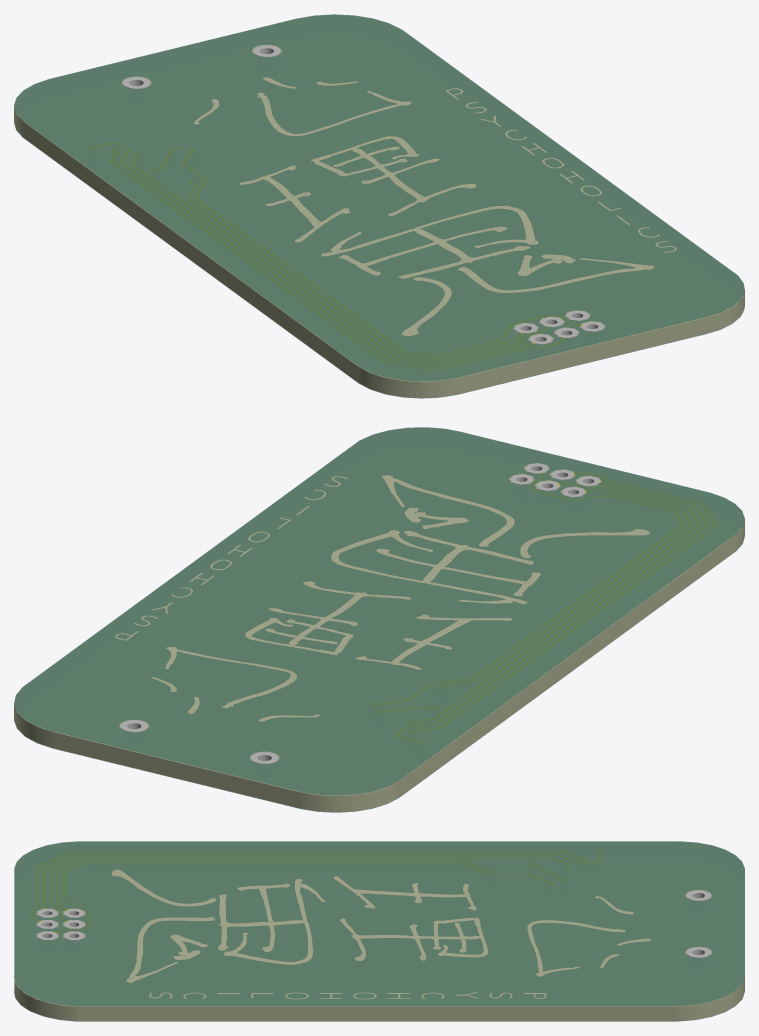
Rendered from psychoholics-pin.glb.
3 renders of one model, top to bottom at view 1: azimuth 30°, elevation 25°; view 2: azimuth 150°, elevation 25°; view 3: azimuth 270°, elevation 25°, orthographic. The views are drawn at different scales.
Visible parts, largest first — view 1: =>[0:1:1:8], =>[0:1:1:6], =>[0:1:1:2]; view 2: =>[0:1:1:8], =>[0:1:1:6], =>[0:1:1:2]; view 3: =>[0:1:1:8], =>[0:1:1:6], =>[0:1:1:2].
Part boxes in pixels (x1,y1,x2,y2): =>[0:1:1:8]: (14, 15, 744, 397); =>[0:1:1:6]: (14, 14, 744, 398); =>[0:1:1:2]: (87, 45, 604, 370); =>[0:1:1:8]: (14, 428, 744, 812); =>[0:1:1:6]: (14, 427, 744, 812); =>[0:1:1:2]: (120, 463, 717, 764); =>[0:1:1:8]: (14, 842, 744, 1021); =>[0:1:1:6]: (14, 841, 744, 1021); =>[0:1:1:2]: (31, 851, 710, 957).
Bounding box in the file's own units: 0.0371 × 0.00163 × 0.0696.
4 materials, 4 textured.
